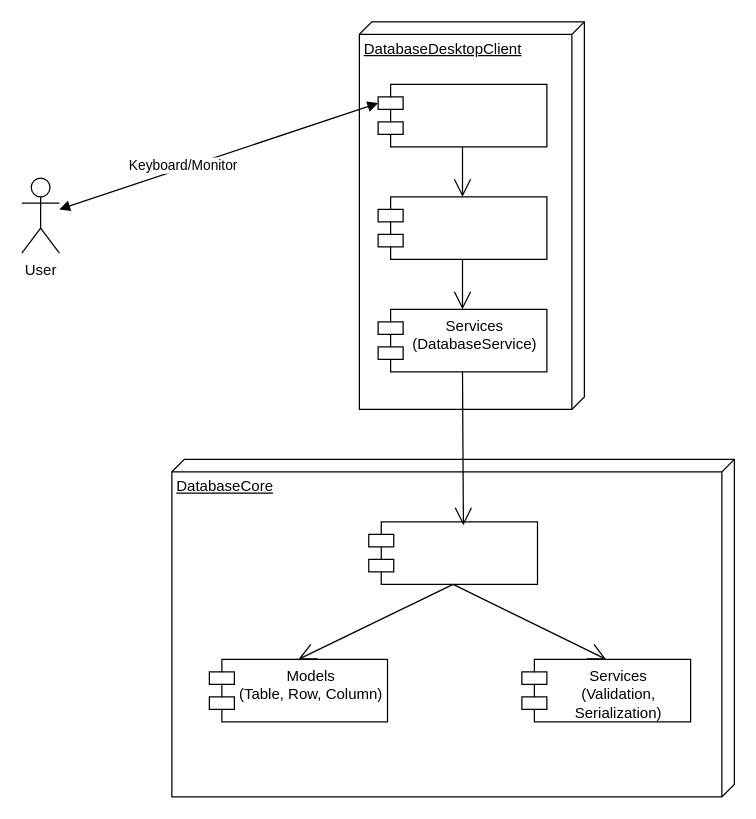
The diagram is 756 pixels wide and 819 high, and some of its shapes have lost their labels. The shapes that lost their labels are listed below. From the top down, each one's centre as x and y in pixels, then its label:
At pixel 462 115: "Views (WPF XAML)".
At pixel 462 227: "ViewsModels".
At pixel 453 552: "Managers (DatabaseManager)".
